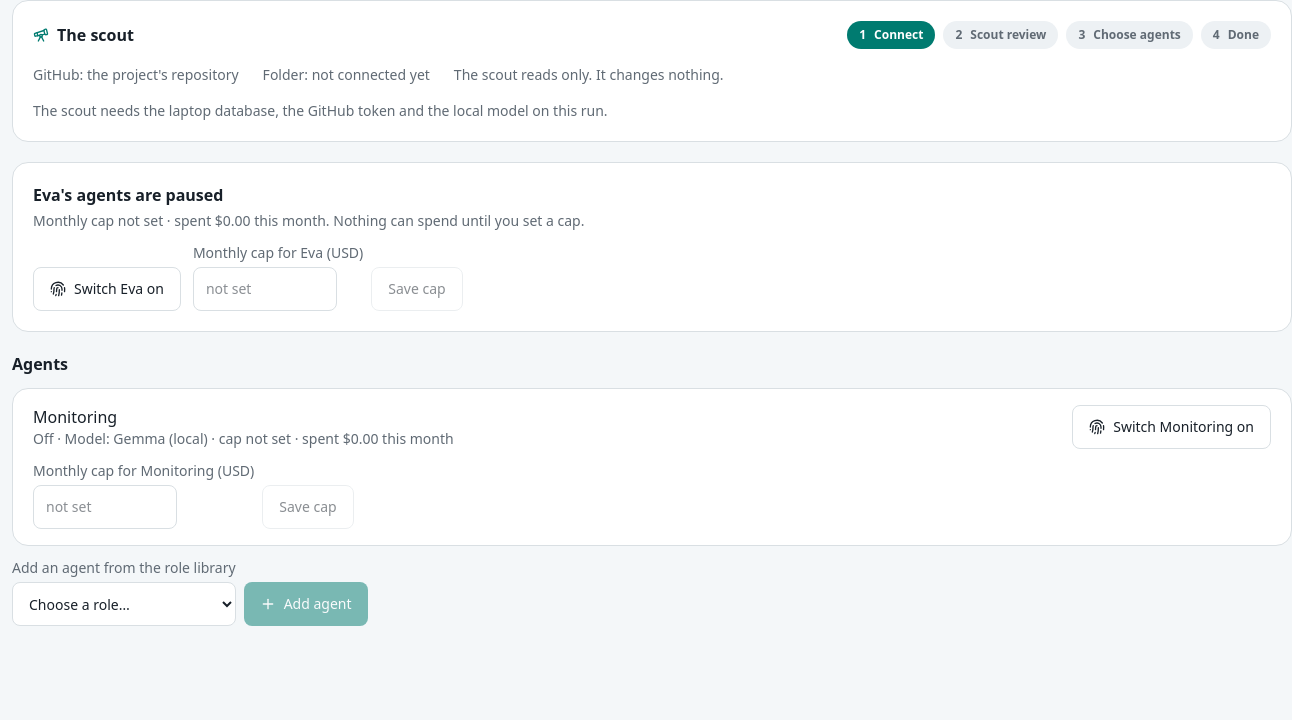
Test: the Agents tab › adds an agent from the library, offering only roles the workspace does not have yet
Select "Sales (draft)" in the dropdown labelled "Add an agent from the role library": (124,604) 12,582 -> 236,626
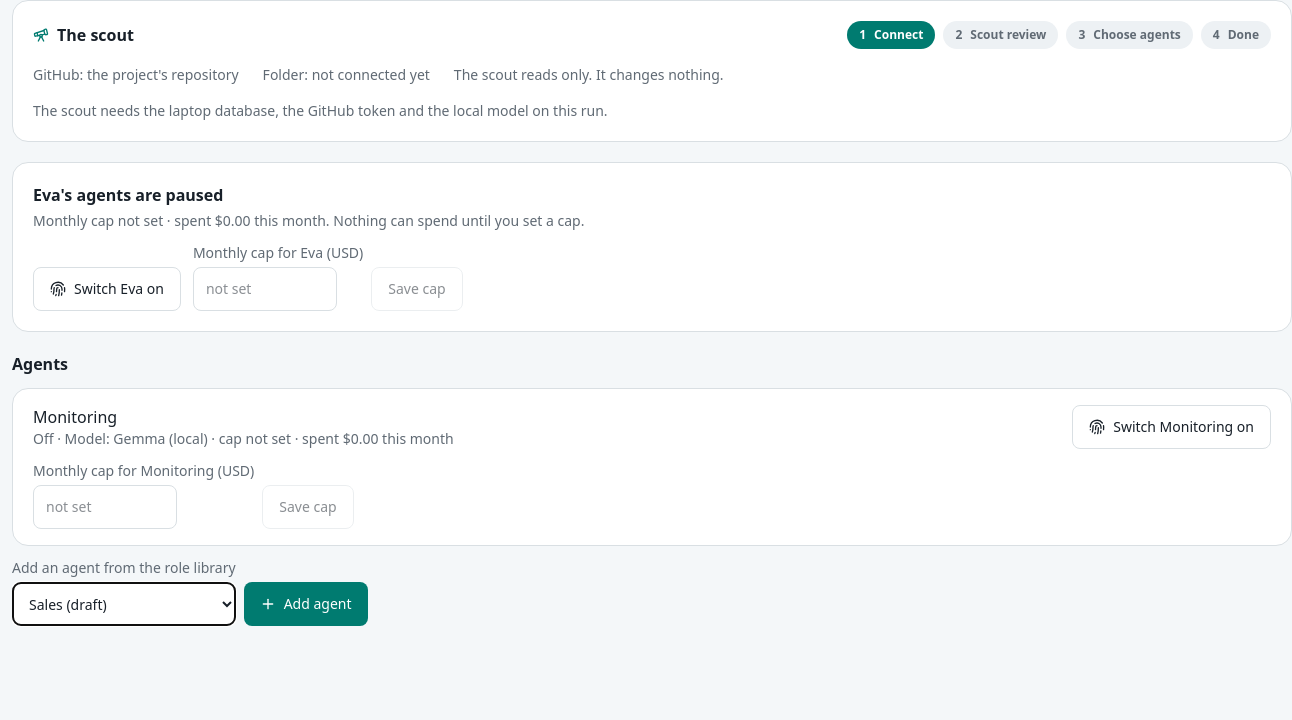
Click the button "Add agent": (306,604) 244,582 -> 368,626
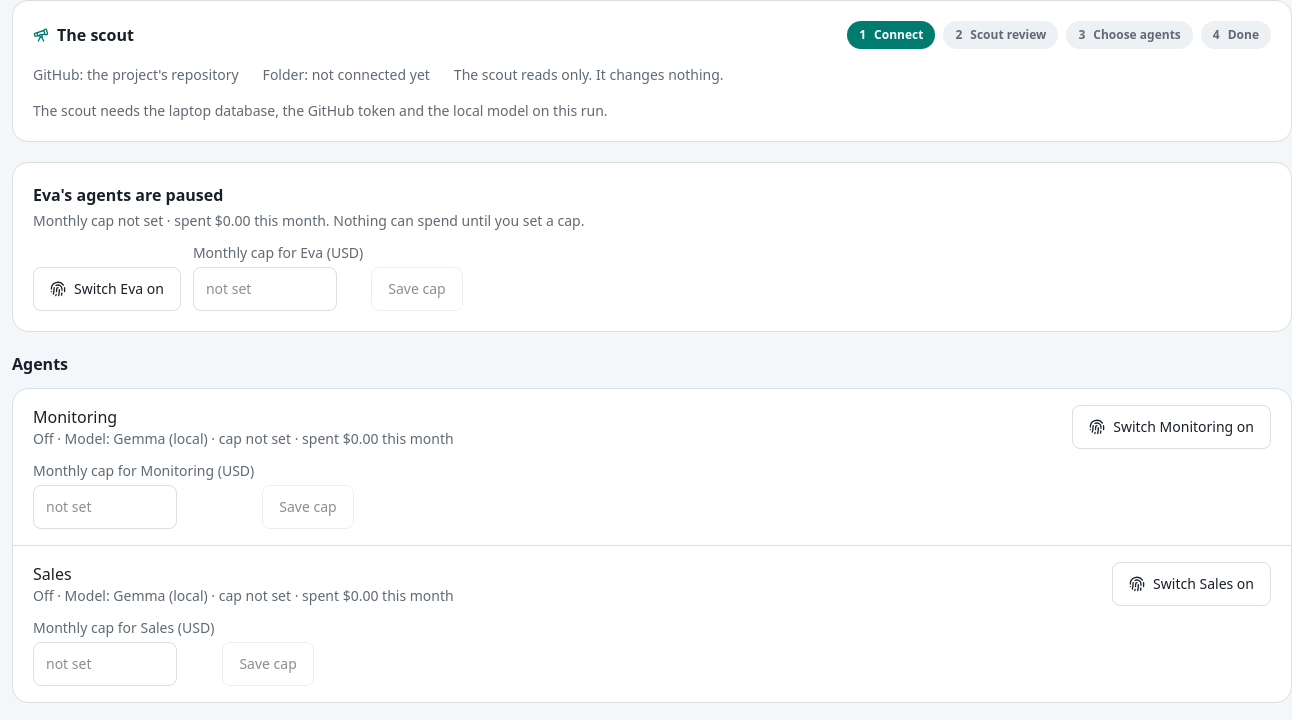
Check: the text "Sales" is shown, box 33,563 -> 72,585
